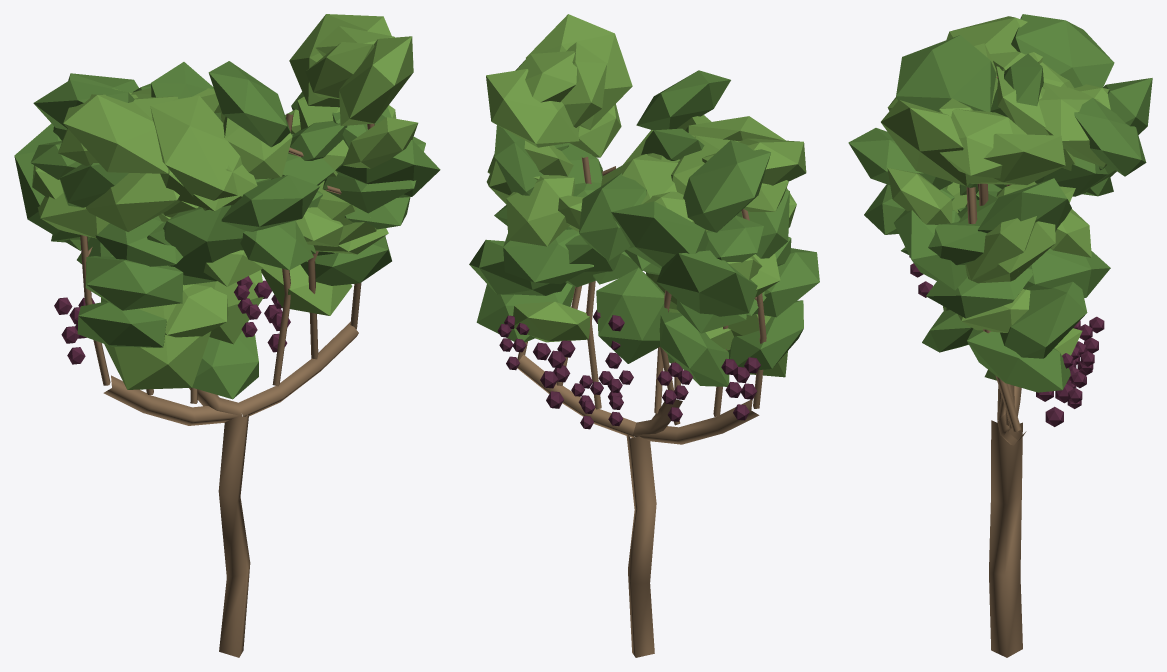
File: szolo-voros.glb
3 renders of one model, left to right at view 1: azimuth 30°, elevation 25°; view 2: azimuth 150°, elevation 25°; view 3: azimuth 270°, elevation 25°, orthographic. The views are drawn at different scales.
Visible parts, largest first — view 1: lomb-szolo, lomb-szolo-arnyek, vesszo-to, termes-szolo, vesszo-kar-1, vesszo-kar-2, vesszo-6, vesszo-3, vesszo-7, vesszo-kar-3; view 2: lomb-szolo-arnyek, lomb-szolo, termes-szolo, vesszo-to, vesszo-kar-1, vesszo-kar-2, vesszo-6, vesszo-kar-3, vesszo-3; view 3: lomb-szolo-arnyek, lomb-szolo, vesszo-to, termes-szolo, vesszo-8.
Boxes of the visible parts, x1,y1,x2,y2 form: lomb-szolo: (32,14,418,389); lomb-szolo-arnyek: (14,61,440,399); vesszo-to: (218,414,250,657); termes-szolo: (54,276,290,364); vesszo-kar-1: (103,375,242,425); vesszo-kar-2: (238,322,358,416); vesszo-6: (272,113,293,386); vesszo-3: (80,235,110,385); vesszo-7: (308,251,318,359); vesszo-kar-3: (189,388,241,415); lomb-szolo-arnyek: (469,70,819,386); lomb-szolo: (486,14,806,377); termes-szolo: (497,310,760,429); vesszo-to: (626,434,656,657); vesszo-kar-1: (633,399,759,444); vesszo-kar-2: (517,354,636,437); vesszo-6: (581,156,601,409); vesszo-kar-3: (632,389,682,436); vesszo-3: (741,209,766,408); lomb-szolo-arnyek: (848,14,1152,392); lomb-szolo: (881,16,1110,380); vesszo-to: (989,420,1022,657); termes-szolo: (909,256,1104,426); vesszo-8: (966,187,1021,431).
Bounding box in the file's own units: 1 × 1.76 × 0.8018.
